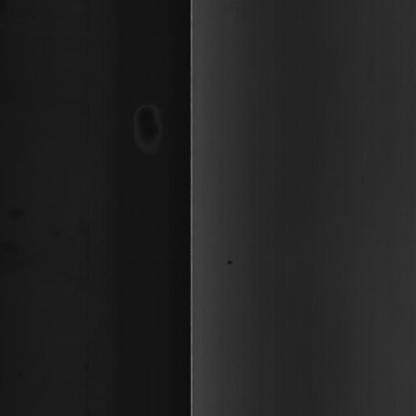oil_spot: (219, 252, 238, 271)
